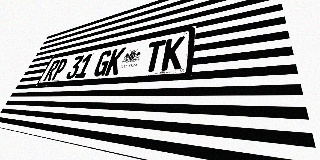1: (74, 53, 95, 78)
3: (65, 55, 85, 79)
G: (92, 50, 113, 77)
K: (161, 36, 185, 71), (104, 47, 126, 76)
P: (50, 58, 69, 81)
R: (43, 59, 61, 81)
T: (142, 39, 166, 72)
